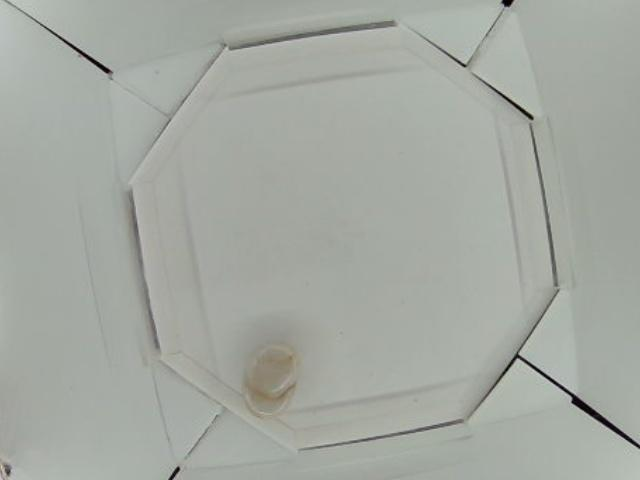Pebble: (242, 346, 296, 418)
